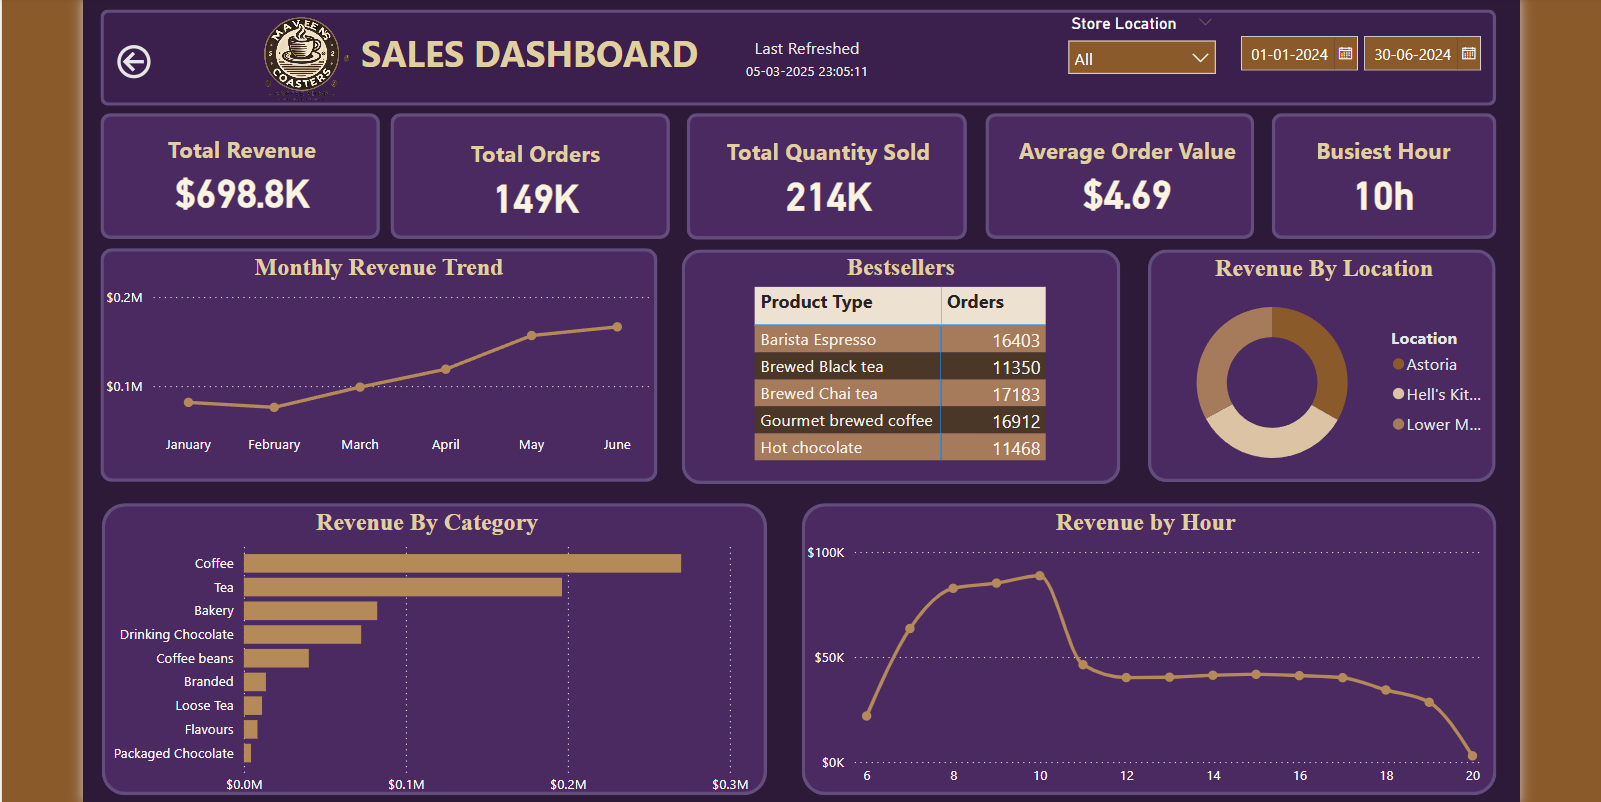

This screenshot's page, from the dashboard's own definition file:
{"tool":"powerbi","page":{"name":"Dashboard","canvas":[1280,720],"ordinal":1},"visuals":[{"type":"shape","box":[16,224,496,208],"z":0},{"type":"lineChart","title":"Monthly Revenue Trend","fields":{"Y":["Sum(Transactions.Revenue)"],"Category":["DateTable.Date.Variation.Date Hierarchy.Month"]},"box":[16,224,496,192],"z":1000},{"type":"shape","box":[15.5,103.6,248.8,111.9],"z":2000},{"type":"cardVisual","fields":{"Data":["Transactions.Total Revenue"]},"box":[41.7,96.4,201.2,121.4],"z":3000},{"type":"shape","box":[273.8,103.6,248.8,111.9],"z":4000},{"type":"shape","box":[537.7,103.5,249.4,112.4],"z":5000},{"type":"shape","box":[803.6,103.6,239.3,111.9],"z":6000},{"type":"cardVisual","fields":{"Data":["Sum(Transactions.transaction_qty)"]},"box":[560,96,208,128],"z":7000},{"type":"cardVisual","fields":{"Data":["Transactions.Total Tranactions"]},"box":[295.2,98.8,216.7,125],"z":8000},{"type":"cardVisual","fields":{"Data":["Transactions.AOV"]},"box":[826.2,103.6,208.3,111.9],"z":9000},{"type":"shape","box":[1058.3,103.6,200,111.9],"z":10000},{"type":"cardVisual","fields":{"Data":["Transactions.Busiest Hour"]},"box":[1078.6,98.8,159.5,120.2],"z":11000},{"type":"shape","box":[15.5,10.7,1242.9,85.7],"z":12000},{"type":"card","title":"Last Refreshed","fields":{"Values":["Min(Last Refreshed.Last Refreshed)"]},"box":[486.9,34.9,316.9,47.8],"z":13000},{"type":"slicer","title":"DATE","fields":{"Values":["Transactions.transaction_date"]},"box":[1019,25,233.3,53.6],"z":14000},{"type":"image","box":[153.6,10.7,89.3,85.7],"z":15000},{"type":"textbox","box":[242.9,23.8,351.2,56],"z":16000},{"type":"shape","box":[533,224.7,390.7,208.9],"z":17000},{"type":"pivotTable","title":"Bestsellers","fields":{"Rows":["Transactions.product_type"],"Values":["Transactions.Total Transactions"]},"box":[593.8,223.8,270,211.2],"z":18000},{"type":"shape","box":[948.8,225,309.5,207.1],"z":19000},{"type":"donutChart","title":"Revenue By Location","fields":{"Y":["Transactions.Total Revenue"],"Series":["Transactions.store_location"]},"box":[948.8,225,309.5,207.1],"z":20000},{"type":"slicer","title":"Store Location","fields":{"Values":["Transactions.store_location"]},"box":[867.2,10,151.4,69],"z":21000},{"type":"shape","box":[16.2,451.2,592.5,260],"z":22000},{"type":"barChart","title":"Revenue By Category","fields":{"Category":["Transactions.product_category"],"Y":["Sum(Transactions.Revenue)"]},"box":[15,451.2,583.8,268.8],"z":23000},{"type":"shape","box":[640,451.2,618.8,260],"z":24000},{"type":"lineChart","title":"Revenue by Hour","fields":{"Category":["Transactions.Hour"],"Y":["Transactions.Total Revenue"]},"box":[640,451.2,612.5,260],"z":25000},{"type":"actionButton","box":[26,38.4,100.5,39.5],"z":25001}]}

Visuals, with their boxes on the page's 1280x720 design canvas (x1, y1, x2, y2). These are canvas units, not pixel positions in the 1601x802 screenshot, which may show the page scaled, cropped or inside an application window:
shape: box=[16, 224, 512, 432]
"Monthly Revenue Trend" lineChart: box=[16, 224, 512, 416]
shape: box=[16, 104, 264, 216]
cardVisual - Transactions.Total Revenue: box=[42, 96, 243, 218]
shape: box=[274, 104, 523, 216]
shape: box=[538, 104, 787, 216]
shape: box=[804, 104, 1043, 216]
cardVisual - Sum(Transactions.transaction_qty): box=[560, 96, 768, 224]
cardVisual - Transactions.Total Tranactions: box=[295, 99, 512, 224]
cardVisual - Transactions.AOV: box=[826, 104, 1034, 216]
shape: box=[1058, 104, 1258, 216]
cardVisual - Transactions.Busiest Hour: box=[1079, 99, 1238, 219]
shape: box=[16, 11, 1258, 96]
"Last Refreshed" card: box=[487, 35, 804, 83]
"DATE" slicer: box=[1019, 25, 1252, 79]
image: box=[154, 11, 243, 96]
textbox: box=[243, 24, 594, 80]
shape: box=[533, 225, 924, 434]
"Bestsellers" pivotTable: box=[594, 224, 864, 435]
shape: box=[949, 225, 1258, 432]
"Revenue By Location" donutChart: box=[949, 225, 1258, 432]
"Store Location" slicer: box=[867, 10, 1019, 79]
shape: box=[16, 451, 609, 711]
"Revenue By Category" barChart: box=[15, 451, 599, 720]
shape: box=[640, 451, 1259, 711]
"Revenue by Hour" lineChart: box=[640, 451, 1252, 711]
actionButton: box=[26, 38, 126, 78]
